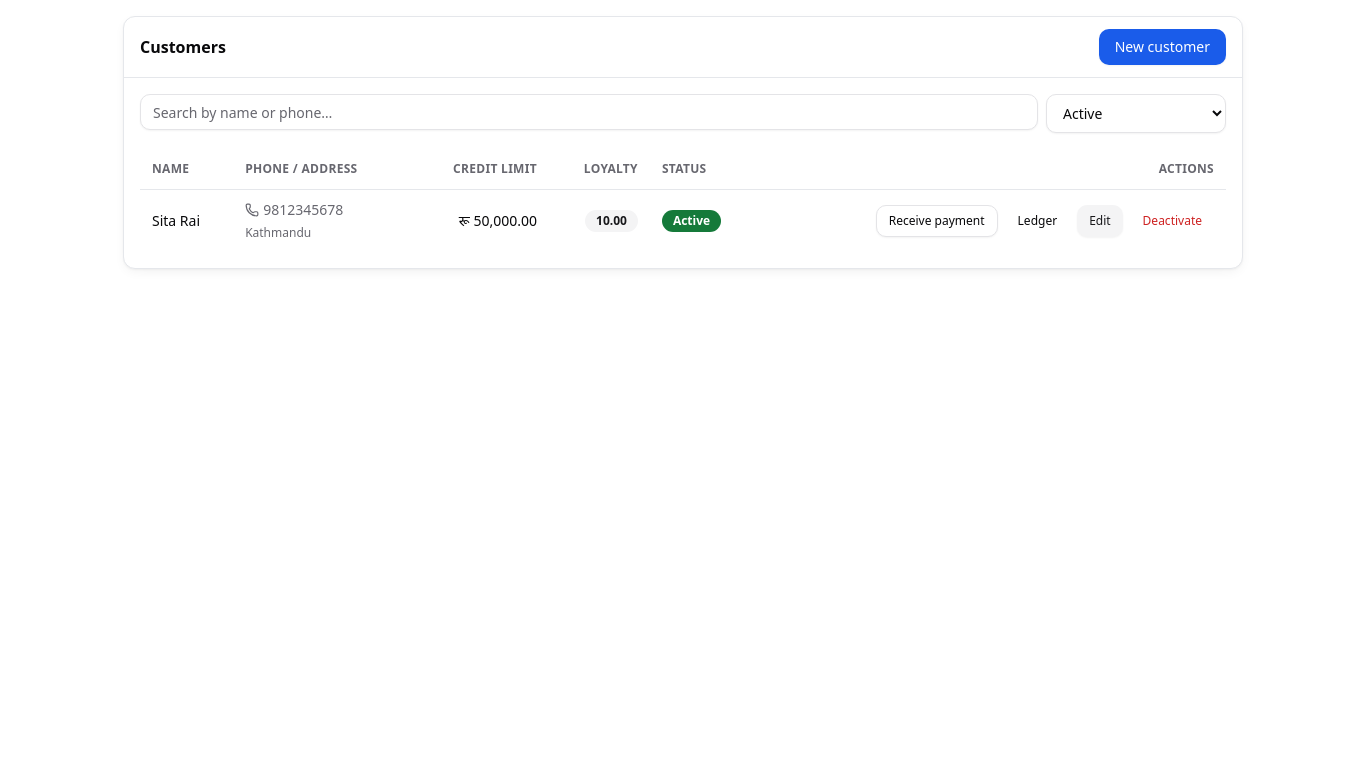
Scenario: CustomersPage › says why a customer could not be deactivated
Click the button "Deactivate" at {"x": 1172, "y": 220}, box [1131,204,1214,236]
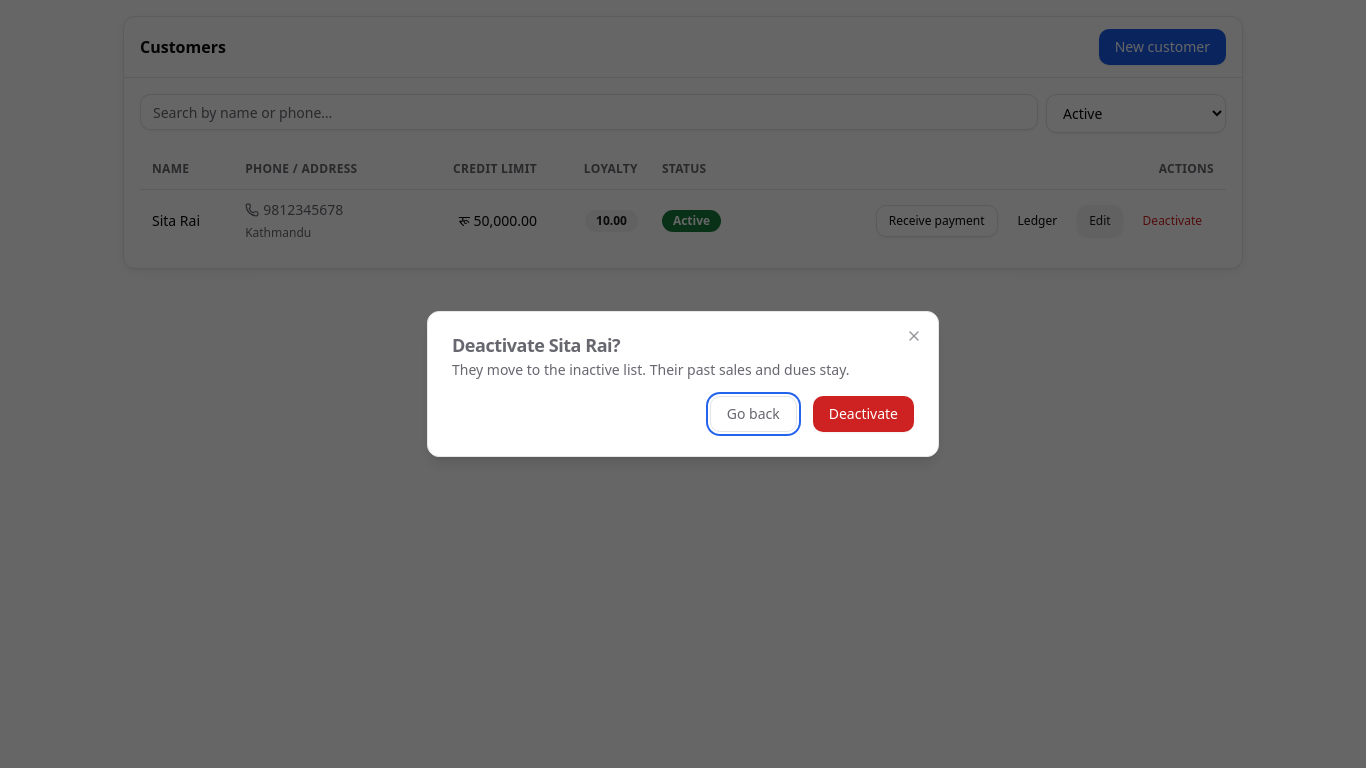
Click the button "Deactivate" at {"x": 863, "y": 414}, box [813,396,914,432]
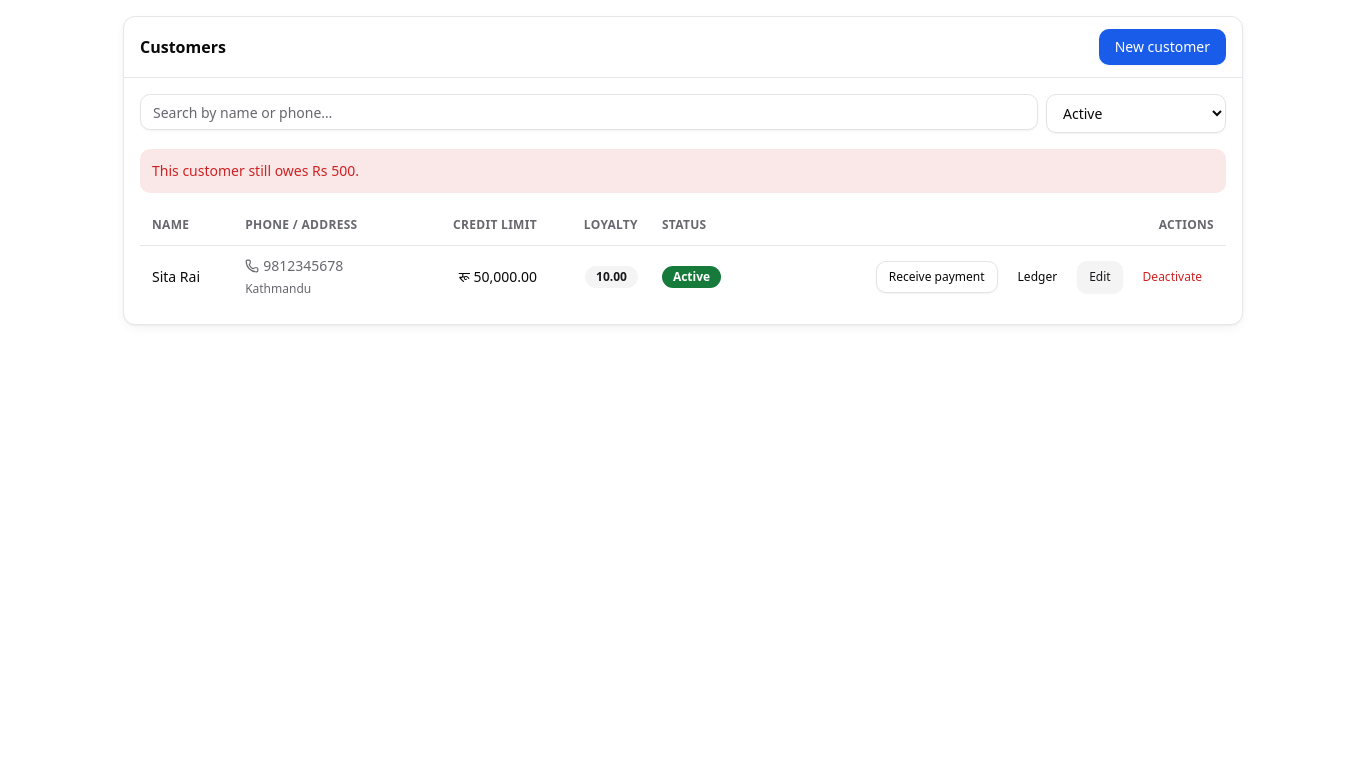
Check: the message reads "This customer still owes Rs 500.", box [152,161,359,180]
